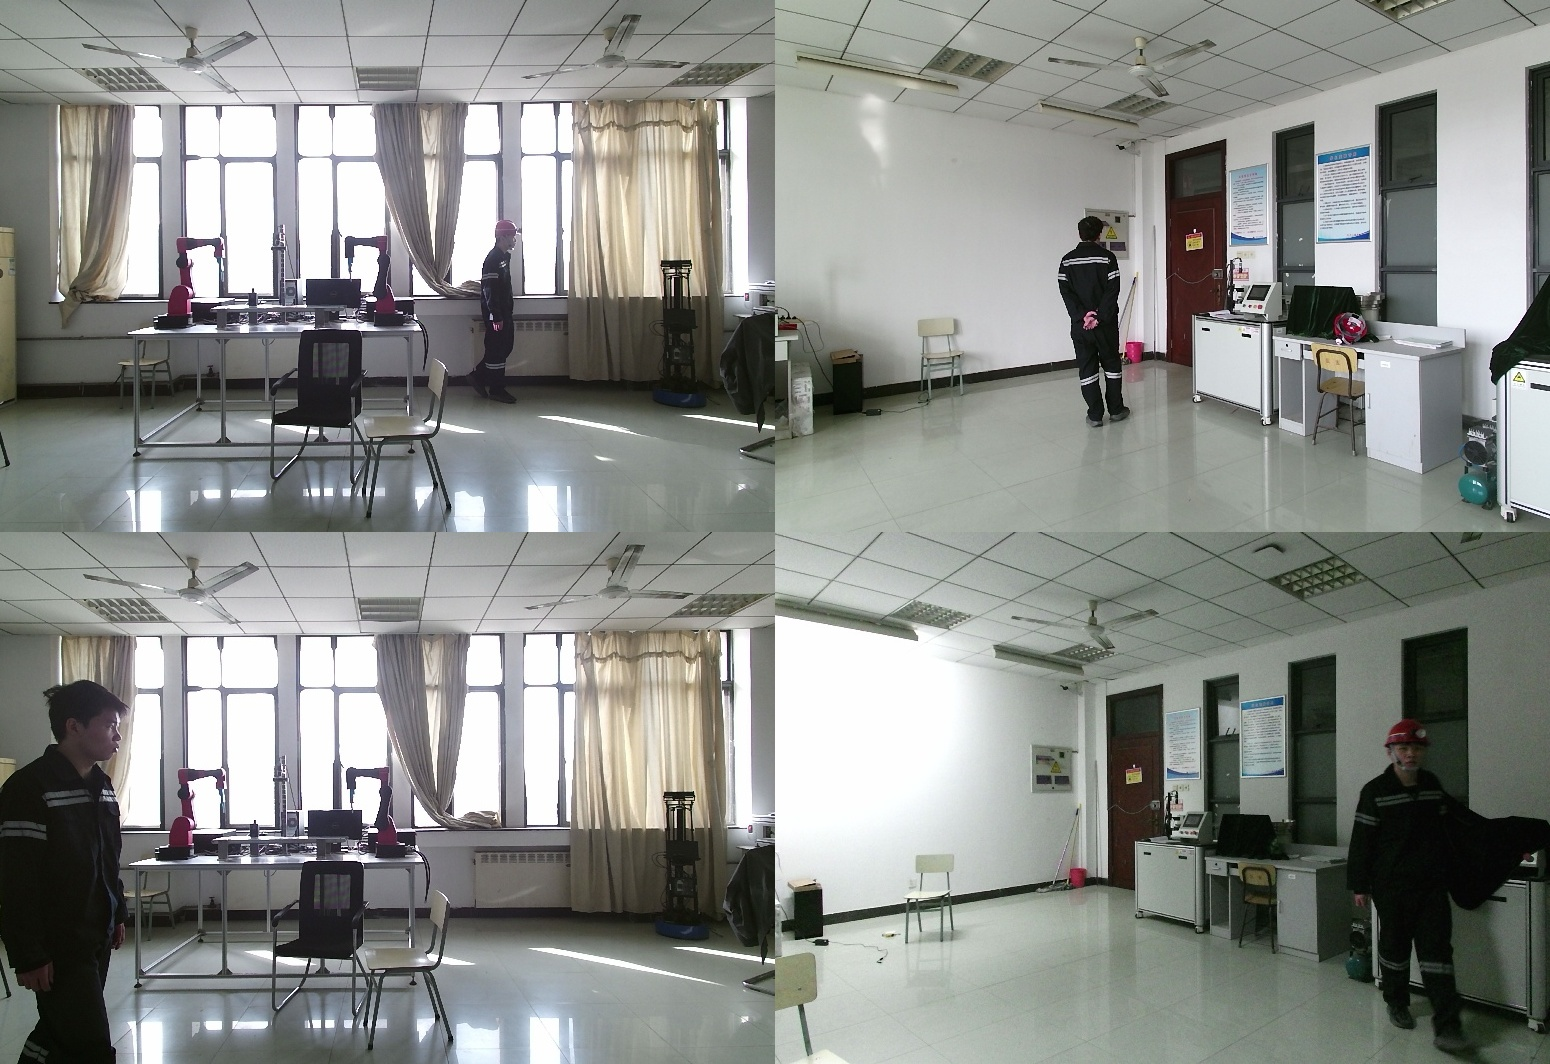person: (1, 684, 133, 1064), (1354, 719, 1485, 1040), (1054, 215, 1135, 432), (470, 220, 520, 412)
